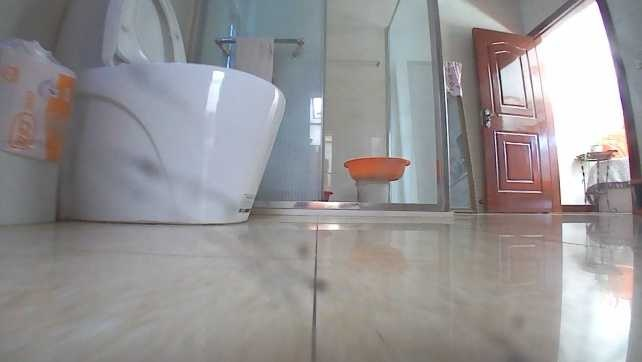door_anno: (470, 25, 563, 215)
toilet: (47, 0, 287, 228)
